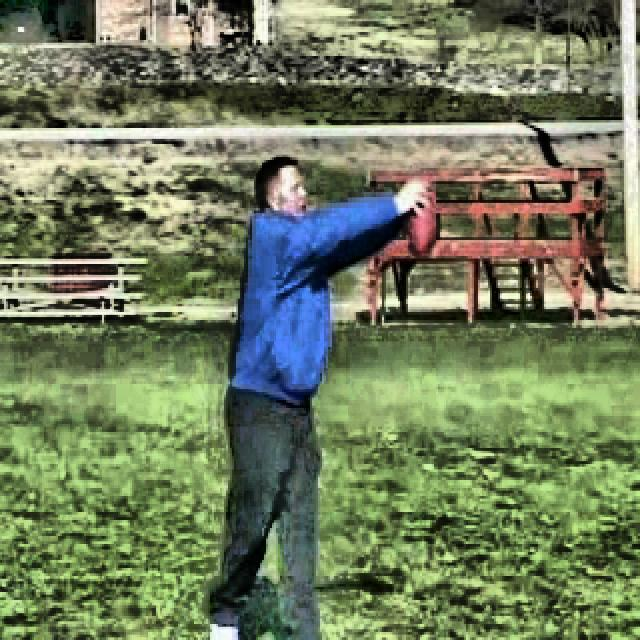I: (203, 149, 437, 640)
